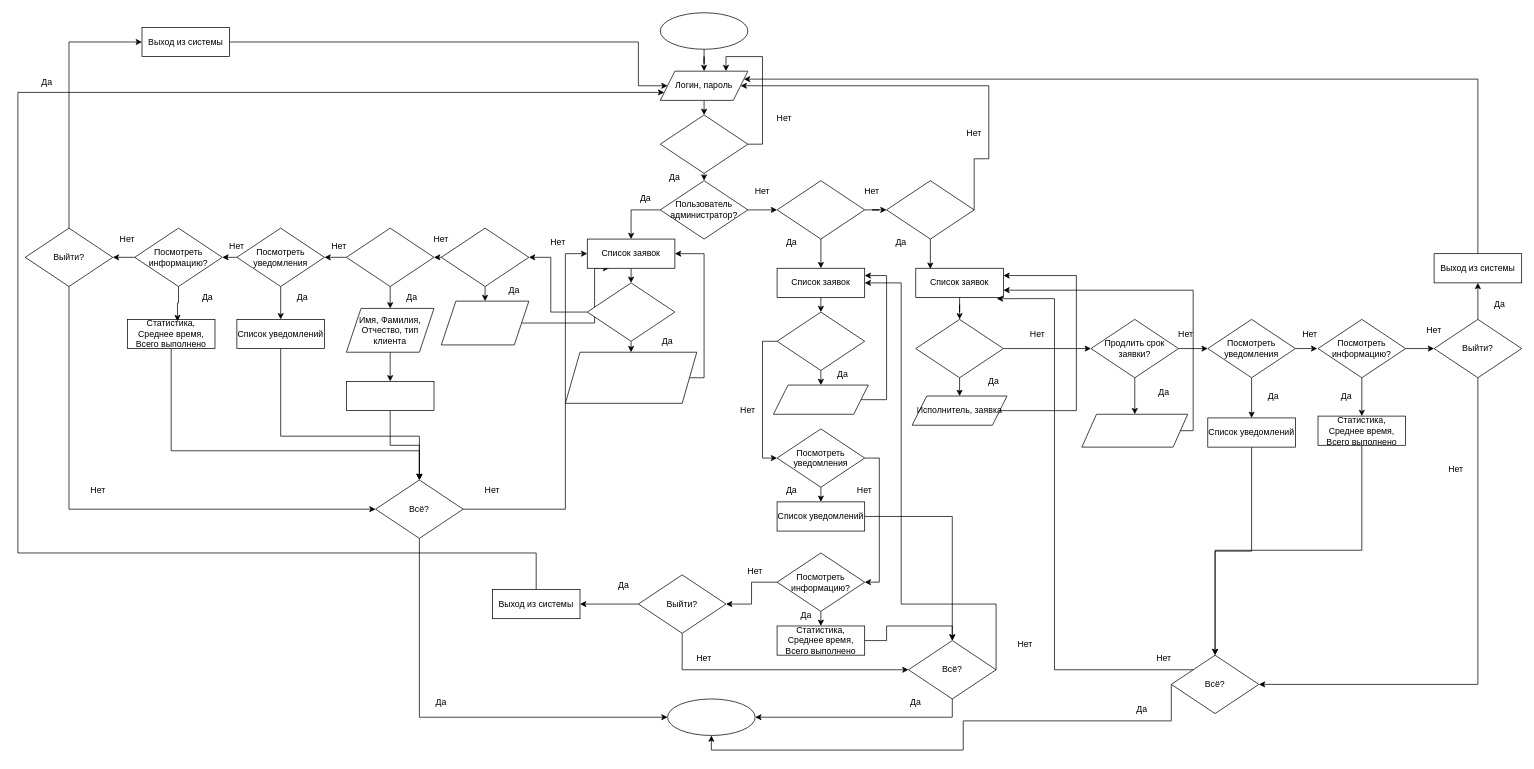
Image size: 1534x769. Some labels were removed from this diagram. Each missing label, with the box of its shape:
Добавить заявку?: (587, 282, 675, 341)
Добавить клиента?: (346, 227, 434, 287)
Добавить комментарий?: (776, 311, 865, 370)
Изменить заявку?: (441, 227, 529, 287)
Комментарий, Дата: (773, 384, 868, 414)
Конец: (667, 698, 755, 735)
Начало: (660, 12, 748, 49)
Описание, Этап, Ответсвенный: (441, 300, 529, 345)
Пользователь исполнитель?: (776, 180, 865, 239)
Пользователь менеджер?: (886, 180, 974, 239)
Правильно введены данные?: (660, 114, 748, 173)
Привлечь другого исполнителя?: (915, 319, 1003, 378)
Список клиентов: (346, 381, 434, 411)
Срок, Заявка, Клиент: (1081, 414, 1188, 447)
Тип неисправности, Статус, Оборудование, Клиент,Сроки, Исполнители: (565, 351, 697, 403)
